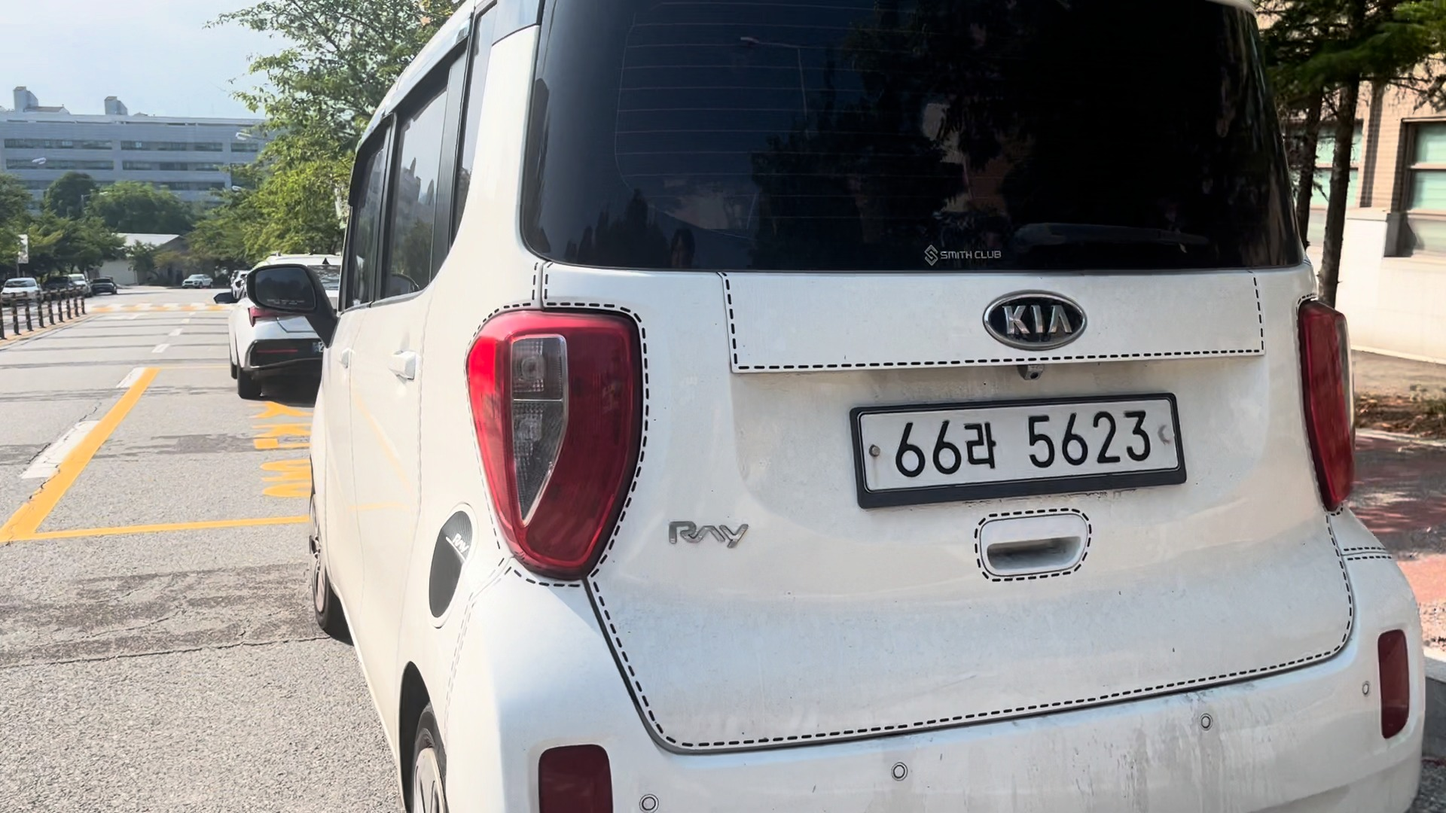car_emblem: (984, 292, 1085, 349)
door_handle: (389, 351, 417, 379)
license_plate: (850, 394, 1185, 507)
side_mirror: (248, 263, 320, 311)
tail_light: (467, 311, 641, 578), (1298, 300, 1353, 510), (538, 746, 613, 812), (1377, 629, 1410, 738), (248, 307, 283, 325)
